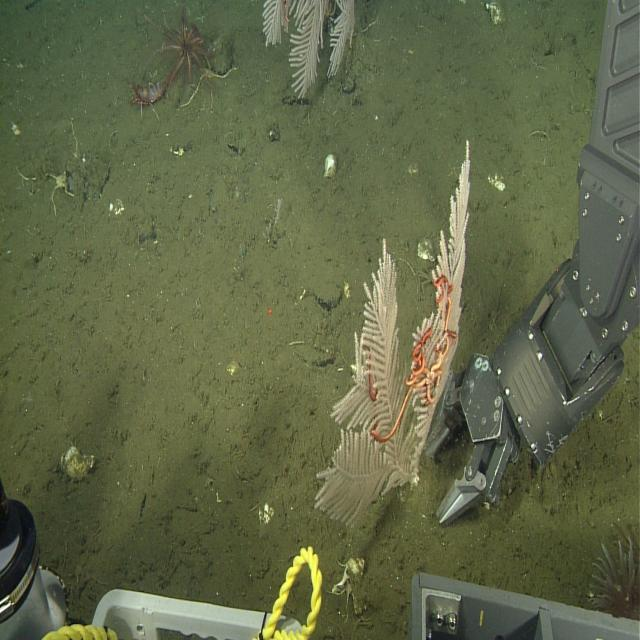Brittle Star: (25, 156, 81, 220)
Not Brittle Star: (308, 132, 475, 557), (143, 3, 218, 98), (122, 45, 190, 124)
